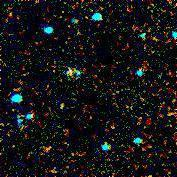star: (51, 57, 81, 87)
